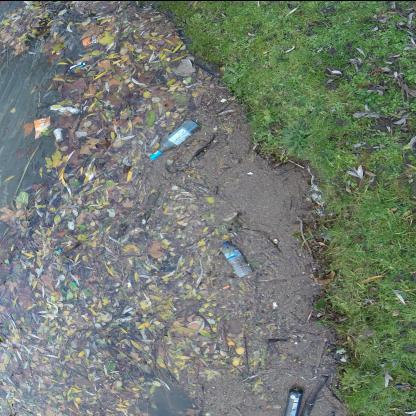cam: (150, 119, 202, 161)
metal: (283, 387, 306, 416)
plastik: (222, 242, 254, 279)
